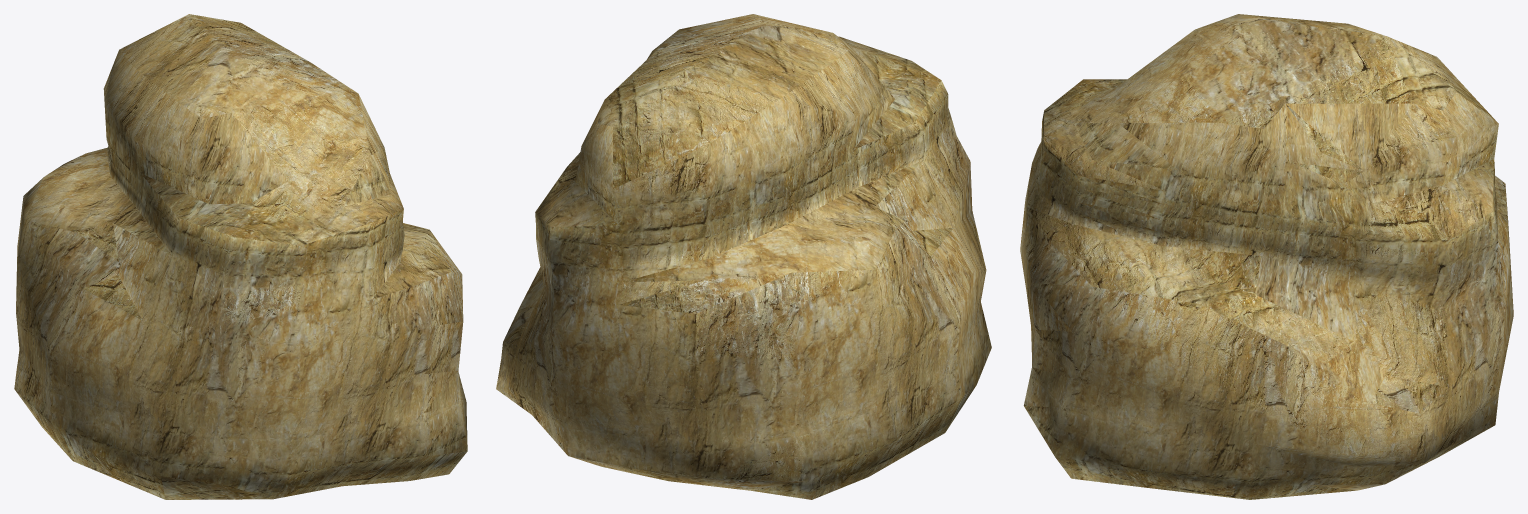
Rendered from Boulder20.dae.
3 views of the same model, side by side, from view 1: azimuth 30°, elevation 25°; view 2: azimuth 150°, elevation 25°; view 3: azimuth 270°, elevation 25° (orthographic). The views are drawn at different scales.
Visible parts, largest first — view 1: rock0; view 2: rock0; view 3: rock0.
Part boxes in pixels (x1,y1,x2,y2): rock0: (14, 14, 467, 499); rock0: (496, 14, 991, 499); rock0: (1020, 14, 1513, 499).
Bounding box in the file's own units: 1.61 × 1.73 × 1.59.
